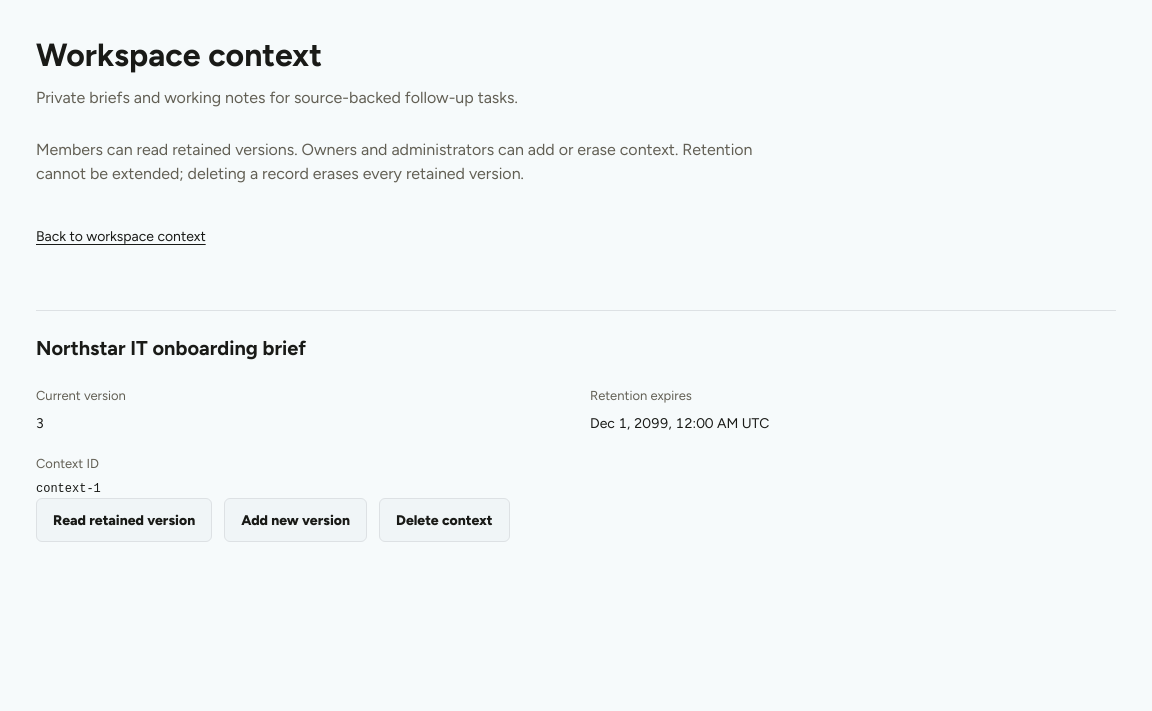
Test: does not display mismatched retained source: {"record_id":"other-record"}
This screenshot has width=1152, height=711.
Step 1. Click the button "Read retained version" → [124, 520], box [36, 498, 212, 542]
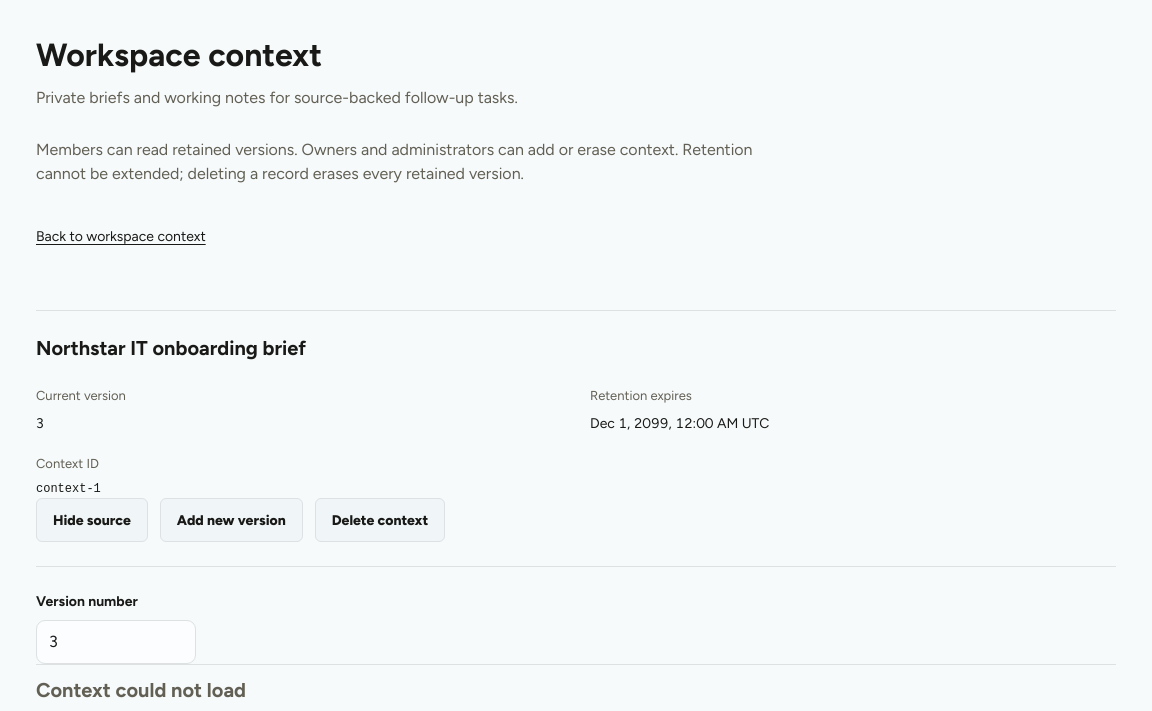
expect the heading "Context could not load" is shown: met, box [36, 678, 246, 702]
